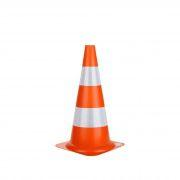traffic_cone: (55, 44, 125, 156)
